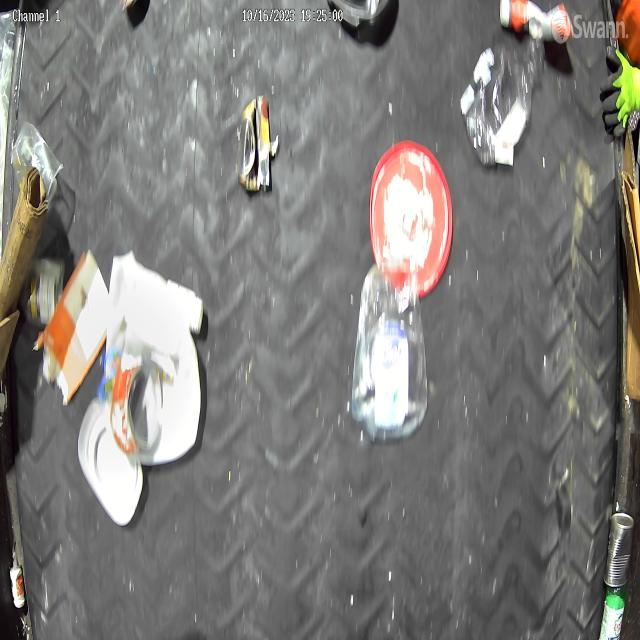can: (110, 362, 164, 456), (235, 90, 275, 198), (602, 509, 636, 591)
plastic_bottle: (462, 36, 545, 166)
